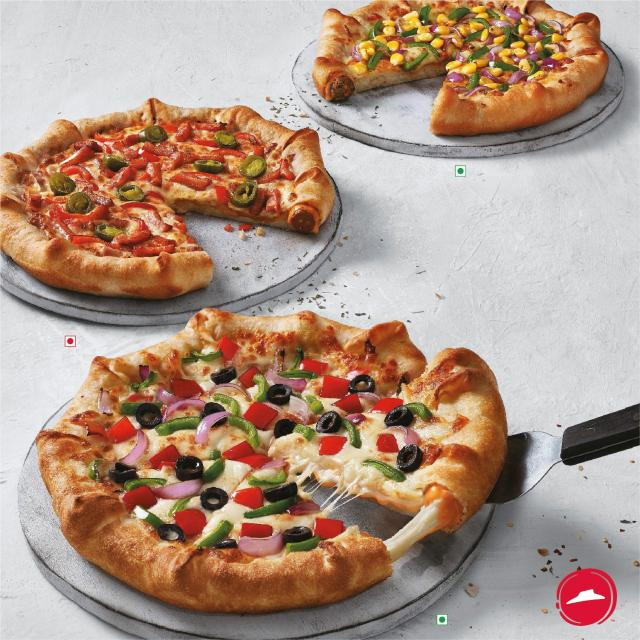pizza: (34, 310, 514, 612), (14, 97, 343, 308), (306, 1, 634, 138)
